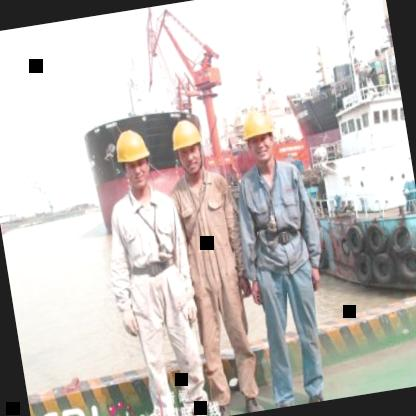helmet: (110, 120, 158, 198), (165, 112, 210, 180), (236, 104, 280, 170)
